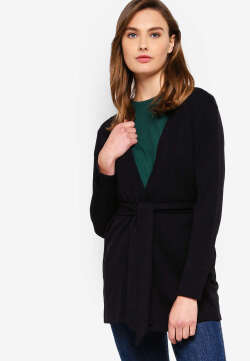S_suit: (73, 99, 231, 351)
